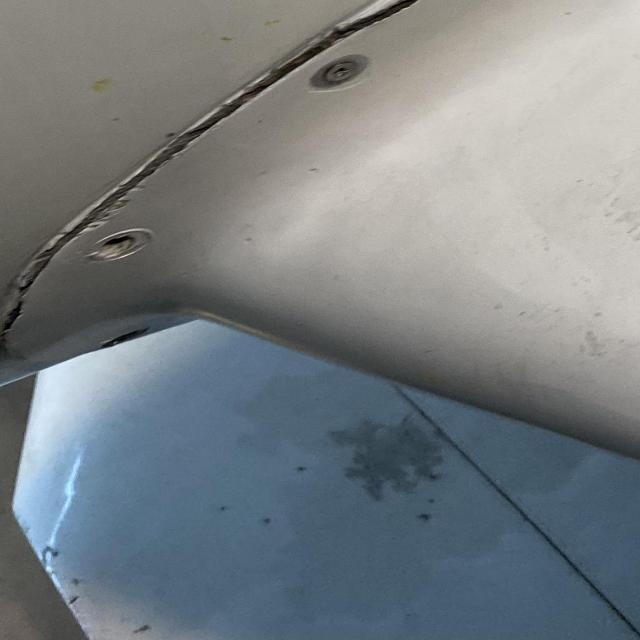Crack: (308, 0, 550, 67), (593, 396, 640, 472)
Missing_Fastener: (91, 229, 143, 271)
